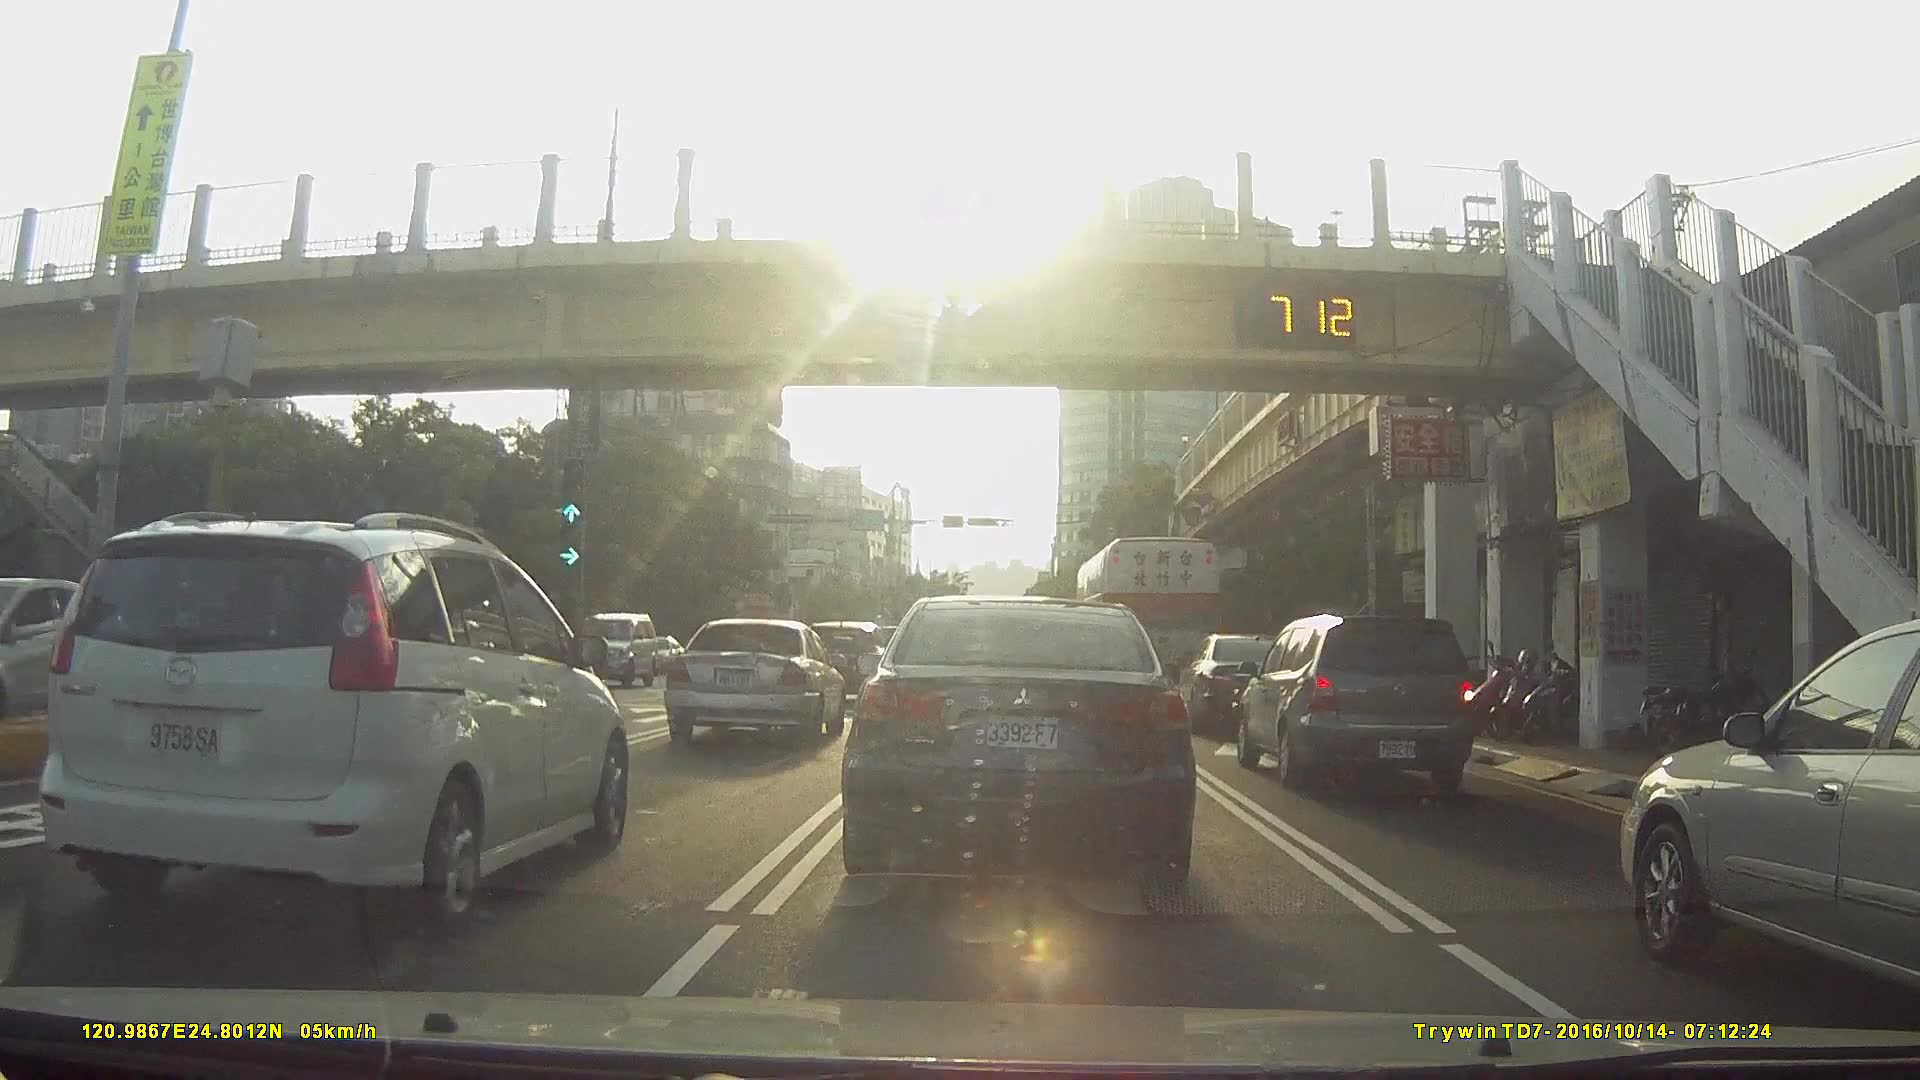vehicle: (36, 509, 629, 924), (1609, 615, 1920, 1019), (840, 589, 1192, 910), (1230, 609, 1474, 795), (1073, 534, 1220, 699), (661, 616, 844, 746), (1170, 629, 1296, 732), (559, 607, 665, 684), (786, 612, 876, 692), (634, 632, 690, 676)
